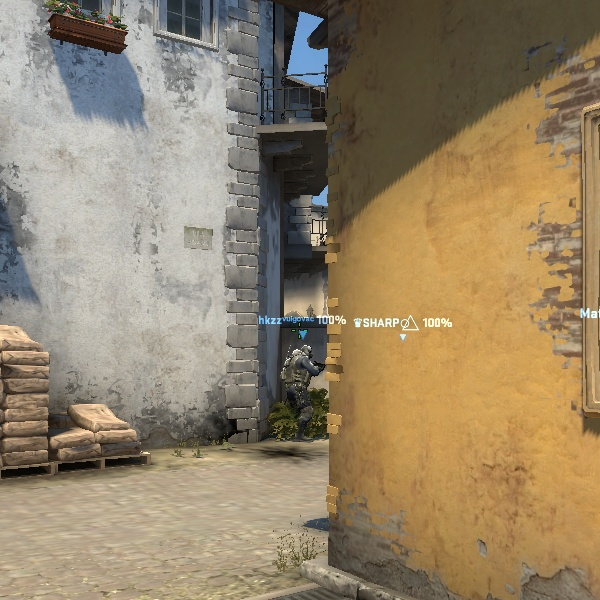ct_body: (266, 340, 330, 441)
ct_head: (284, 341, 323, 379)
